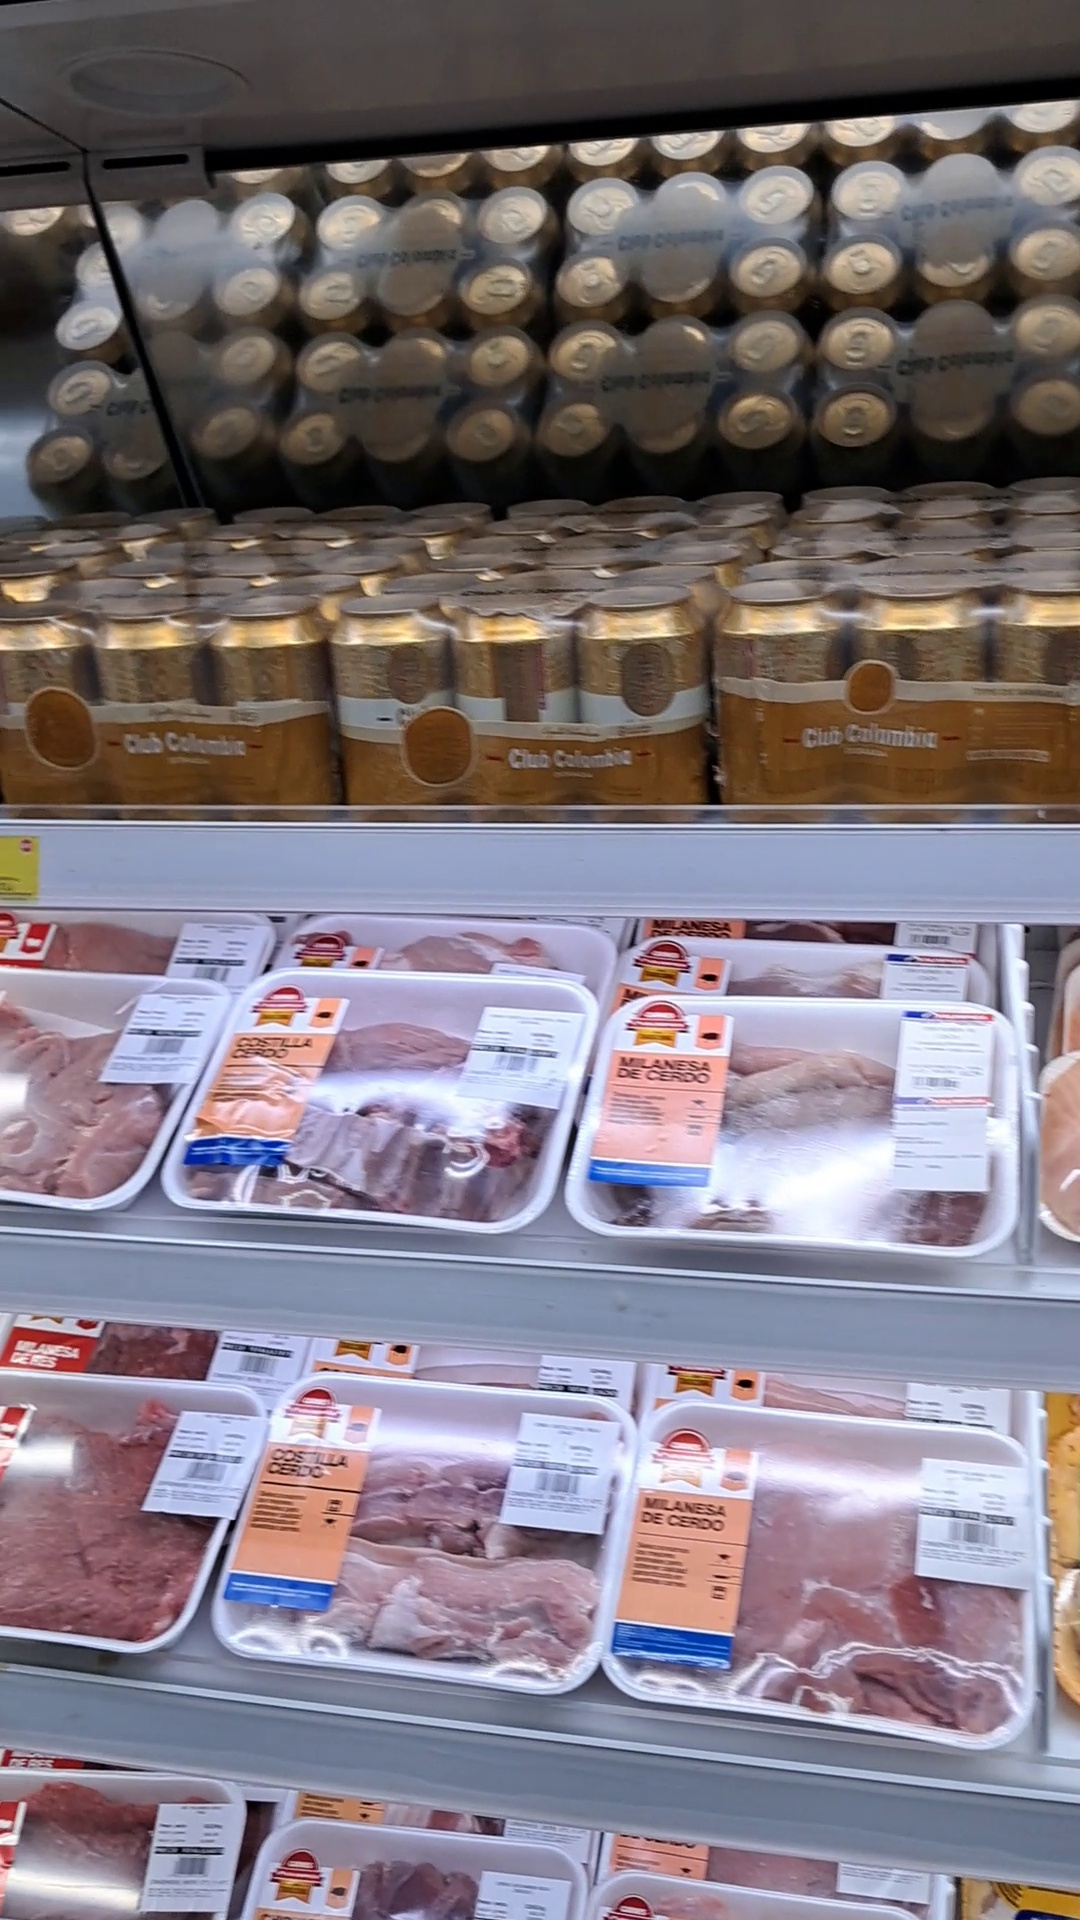Cerveza: (345, 551, 720, 827), (711, 537, 1080, 815), (3, 564, 360, 804), (775, 472, 1071, 545), (480, 489, 778, 559), (211, 501, 500, 554)
